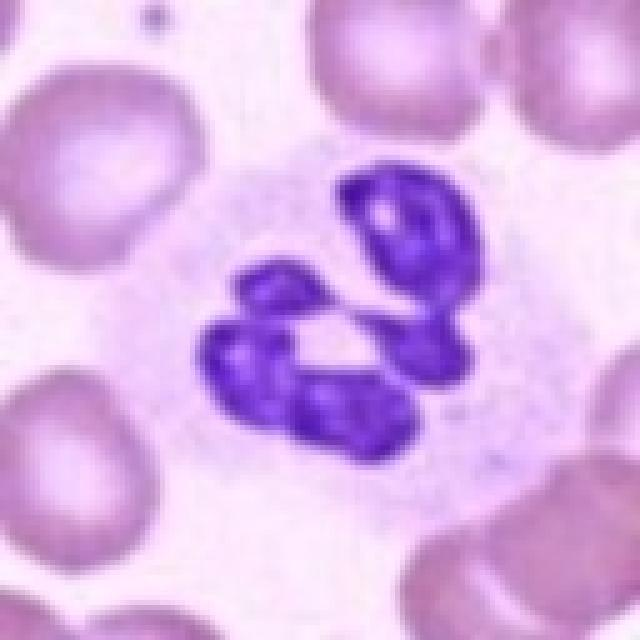neutro: (68, 115, 587, 580)
